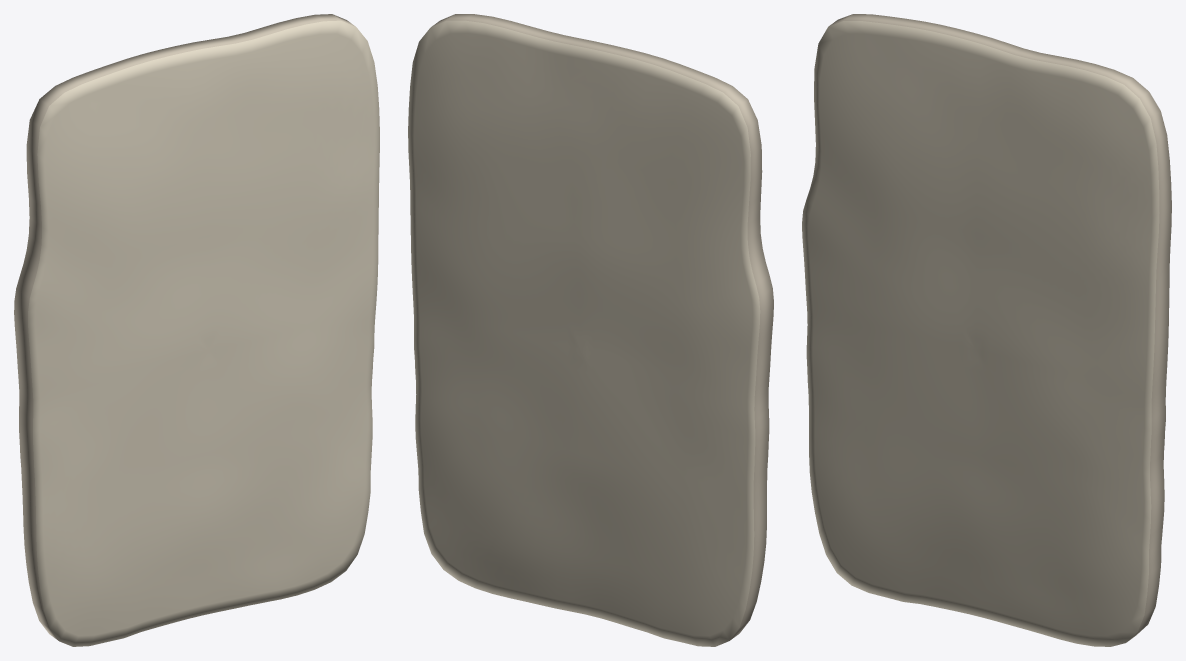
File: oracle-bone.glb
3 views of the same model, side by side, from view 1: azimuth 30°, elevation 25°; view 2: azimuth 150°, elevation 25°; view 3: azimuth 330°, elevation 25° (orthographic).
Parts seen in each view (by area): view 1: OracleBone; view 2: OracleBone; view 3: OracleBone.
Part boxes in pixels (x1=…): OracleBone: x1=14, y1=14, x2=379, y2=646; OracleBone: x1=408, y1=14, x2=773, y2=646; OracleBone: x1=802, y1=14, x2=1171, y2=646.
Bounding box in the file's own units: 1.02 × 1.58 × 0.1126.
